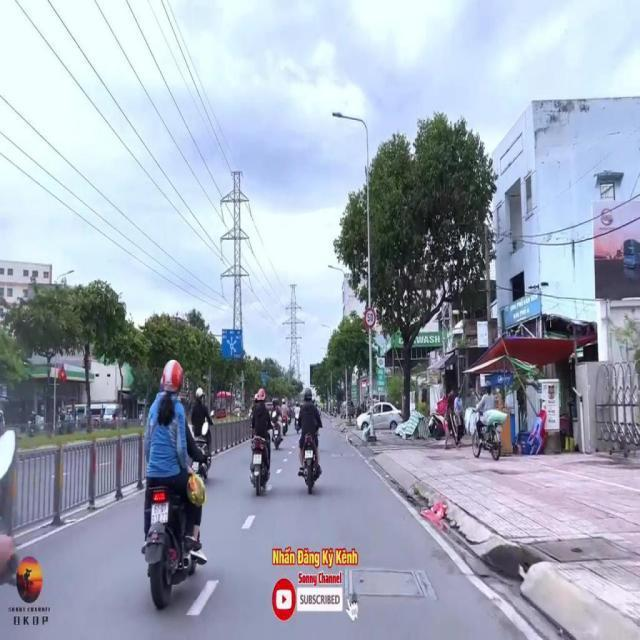127-toc-do-toi-da-50: (364, 308, 376, 328)
